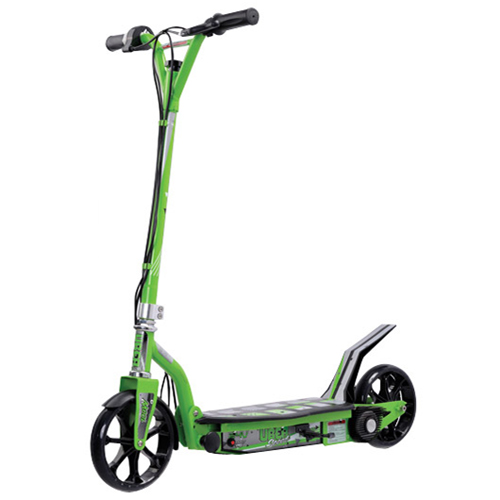scooter: (92, 7, 419, 492)
